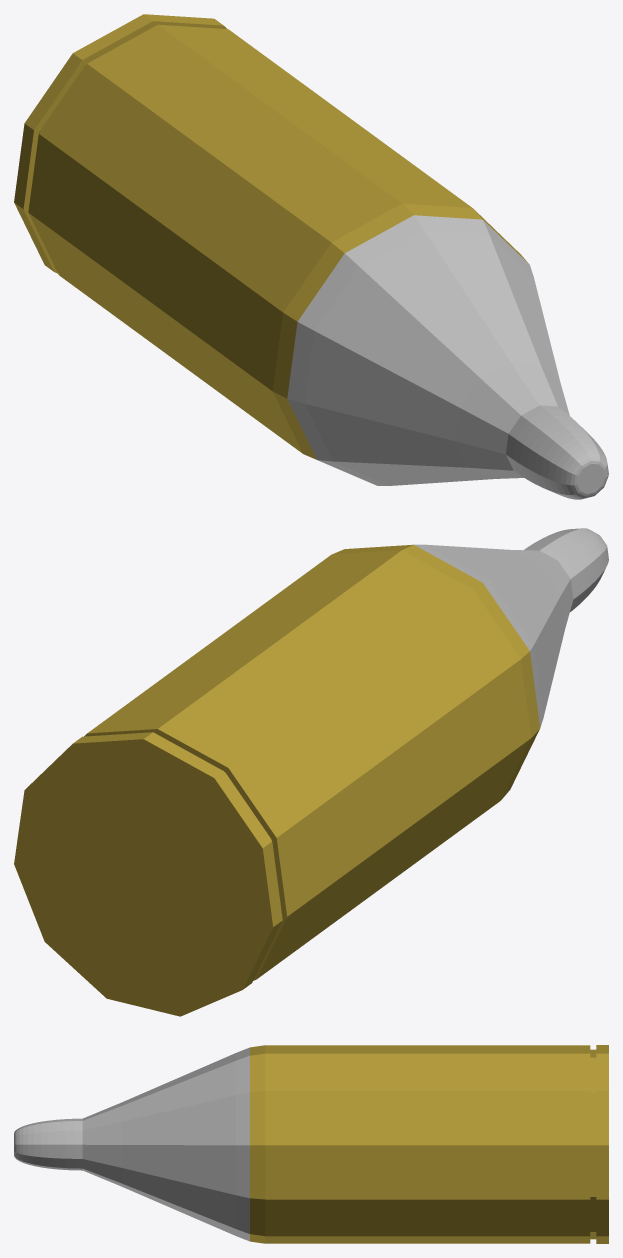
Rendered from bullet_mesh.fbx.
3 renders of one model, top to bottom at view 1: azimuth 30°, elevation 25°; view 2: azimuth 150°, elevation 25°; view 3: azimuth 270°, elevation 25°, orthographic. The views are drawn at different scales.
Visible parts, largest first — view 1: Circle; view 2: Circle; view 3: Circle.
Part boxes in pixels (left/top/right/bottom): Circle: left=14, top=14, right=608, bottom=499; Circle: left=14, top=528, right=608, bottom=1016; Circle: left=14, top=1045, right=608, bottom=1243.
Bounding box in the file's own units: 10.8 × 10.69 × 32.29.
